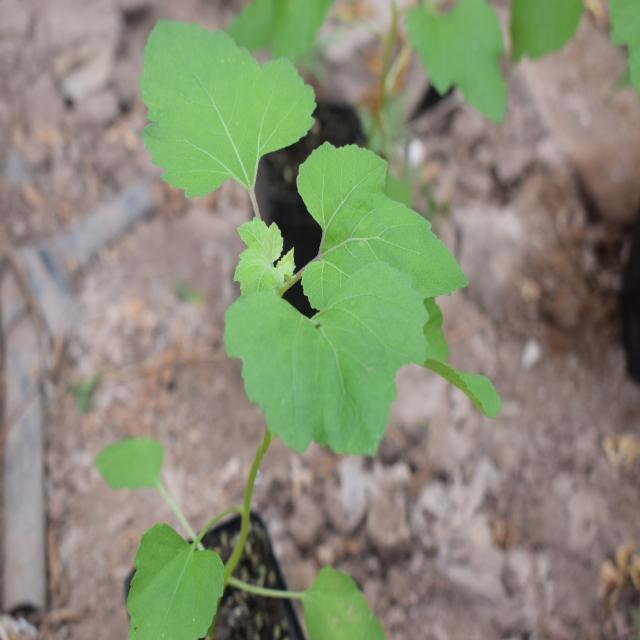cocklebur: (130, 23, 507, 507)
